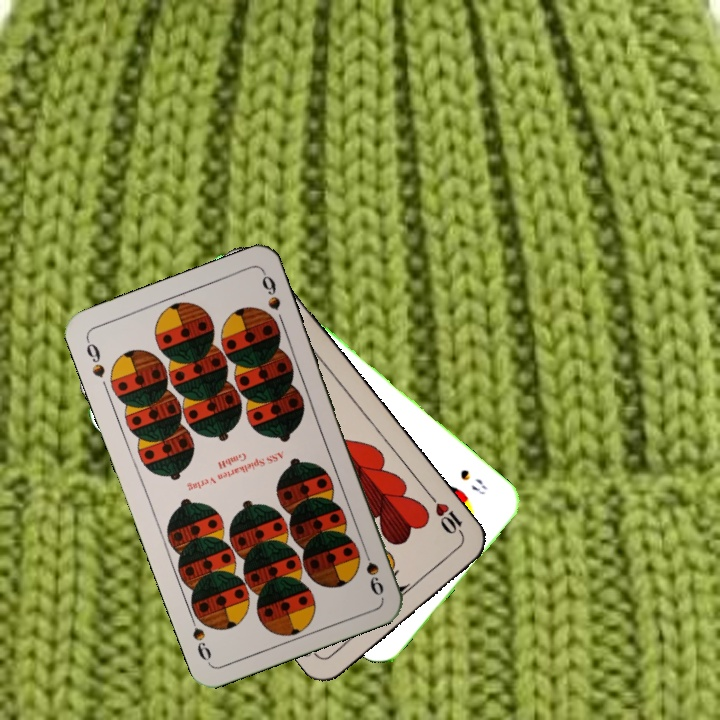H10: (425, 491, 468, 542)
S8: (456, 465, 490, 498)
S9: (358, 541, 386, 599), (82, 334, 108, 381)
